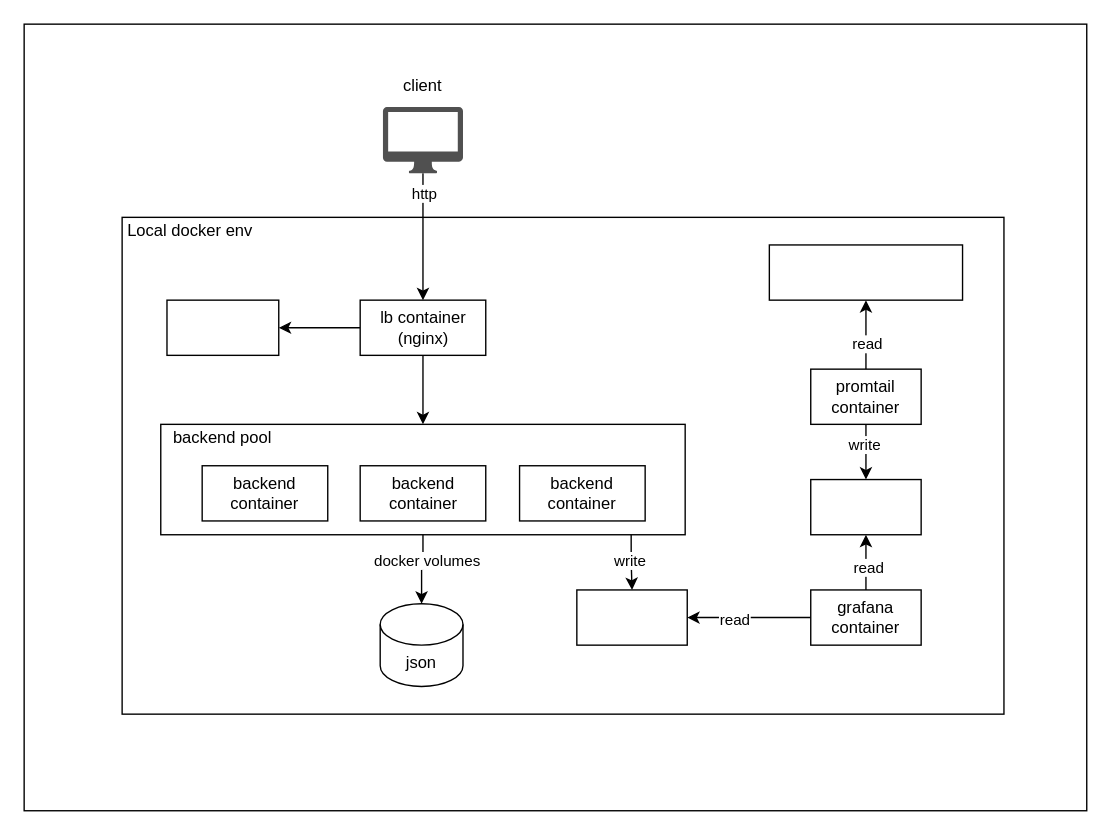
The diagram is 1111 pixels wide and 835 high, and some of its shapes have lost their labels. The shapes that lost their labels are listed below. From the top down, each one's centre as x and y in pixels, then its label:
(865,272): docker containers logs
(222,327): frontend container
(865,506): loki container
(631,617): tempo container
